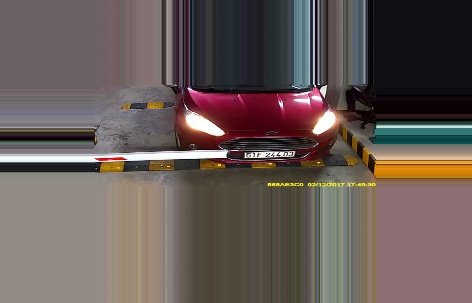plate: (244, 148, 298, 160)
